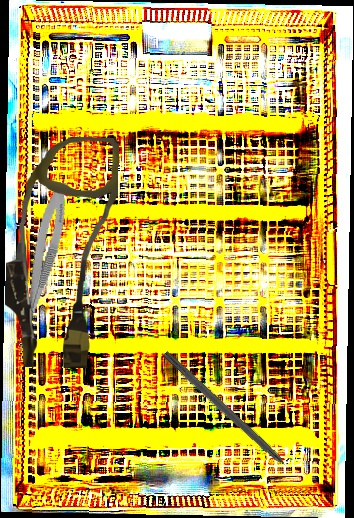Cannula: (3, 136, 120, 369)
Hook Surgical: (160, 350, 303, 483)
Micro Scissor: (11, 179, 73, 362)
